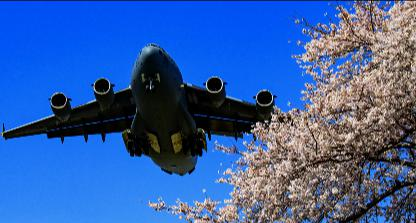C2: (1, 42, 293, 176)
